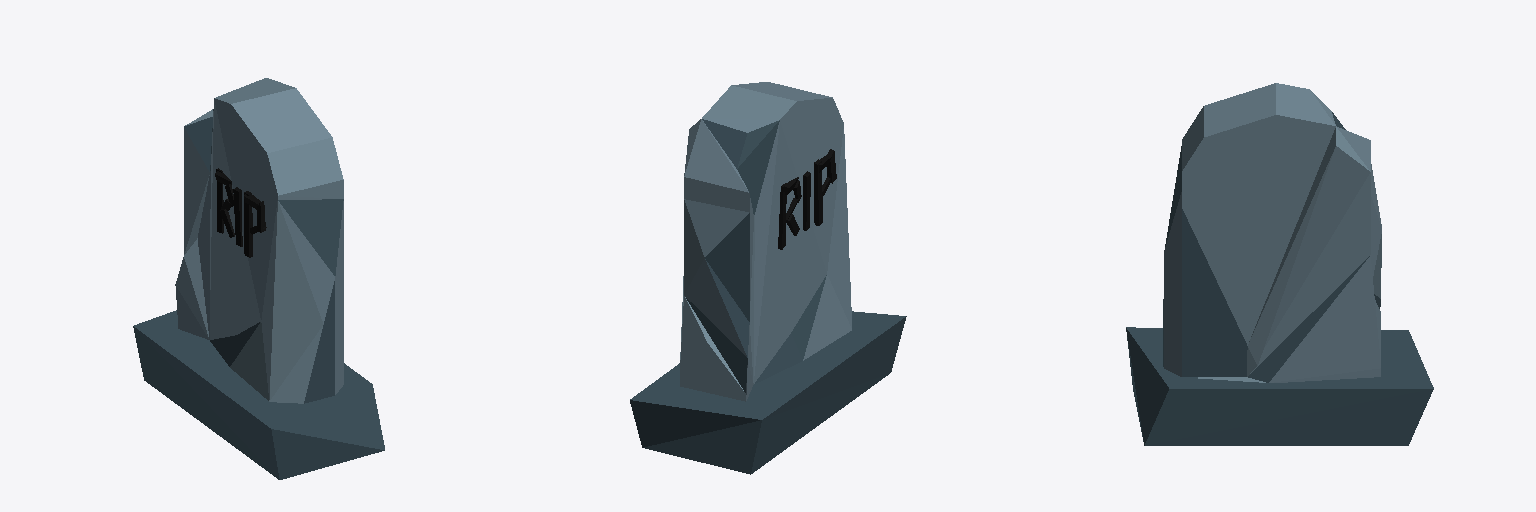
3 renders of one model, left to right at view 1: azimuth 30°, elevation 25°; view 2: azimuth 150°, elevation 25°; view 3: azimuth 270°, elevation 25°, orthographic.
Parts seen in each view (by area): view 1: group[number redacted], group[number redacted]; view 2: group[number redacted], group[number redacted]; view 3: group[number redacted], group[number redacted].
Boxes of the visible parts, x1=… form: group[number redacted]: x1=175, y1=78, x2=343, y2=403; group[number redacted]: x1=133, y1=310, x2=384, y2=479; group[number redacted]: x1=680, y1=82, x2=851, y2=401; group[number redacted]: x1=630, y1=311, x2=906, y2=474; group[number redacted]: x1=1163, y1=83, x2=1381, y2=382; group[number redacted]: x1=1126, y1=327, x2=1433, y2=445.
Size of the model in its own units: 0.1131 by 0.2802 by 0.2445.